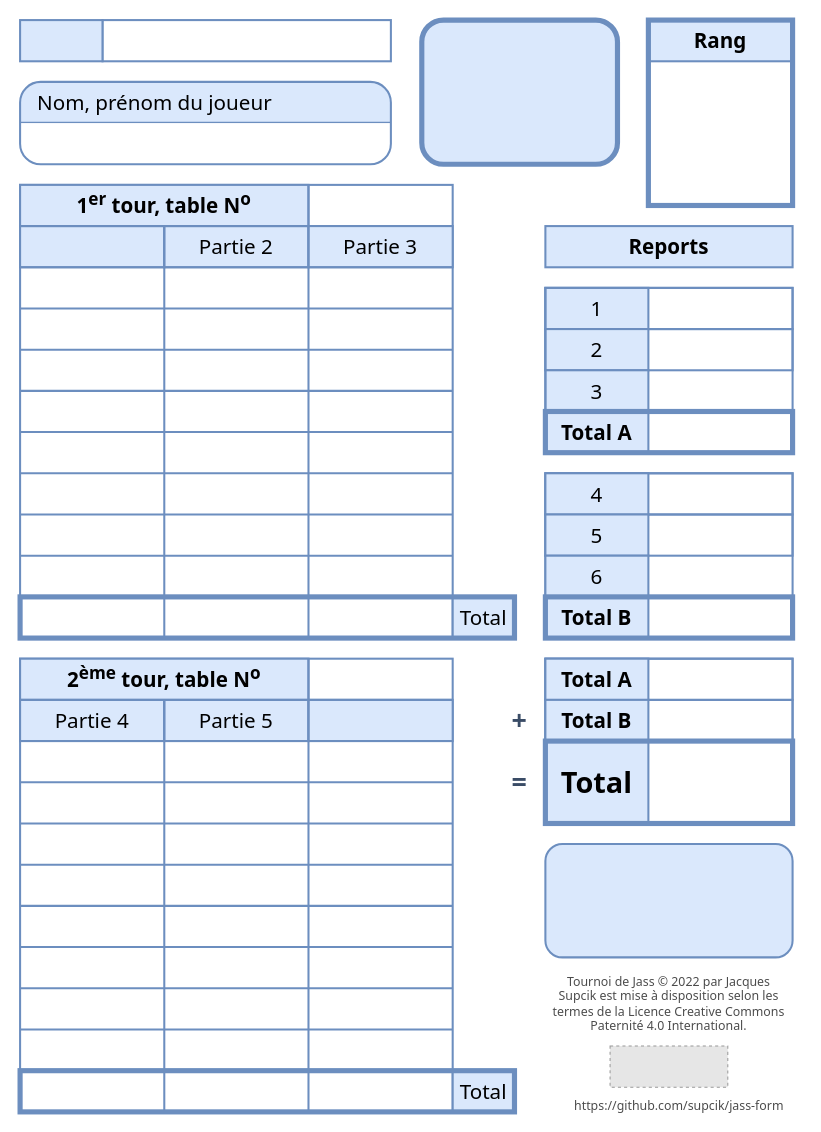
Some shapes in this 821 by 1132 pixel diagram are drawn without their labels. Grey dashed boxes stand in for pictures. The centre of each missing label's shape, as x and y in pixels:
"Date" goes at pixel 61 40.
"Partie 1" goes at pixel 92 246.
"Partie 6" goes at pixel 380 720.
"Tournoi de Jass" goes at pixel 519 91.
"Une partie vaut 1'256 points" goes at pixel 668 900.
